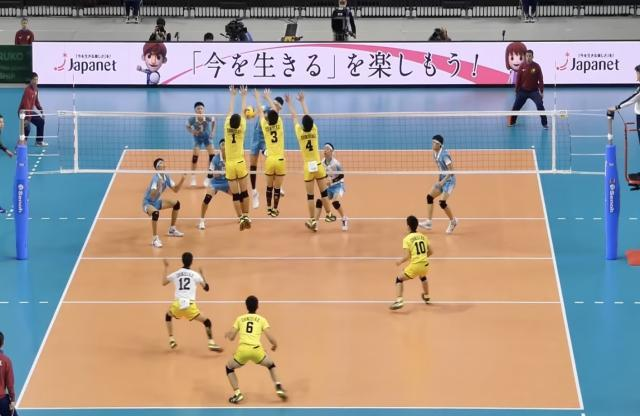block: (283, 92, 339, 232), (220, 82, 256, 231), (252, 86, 286, 222)
